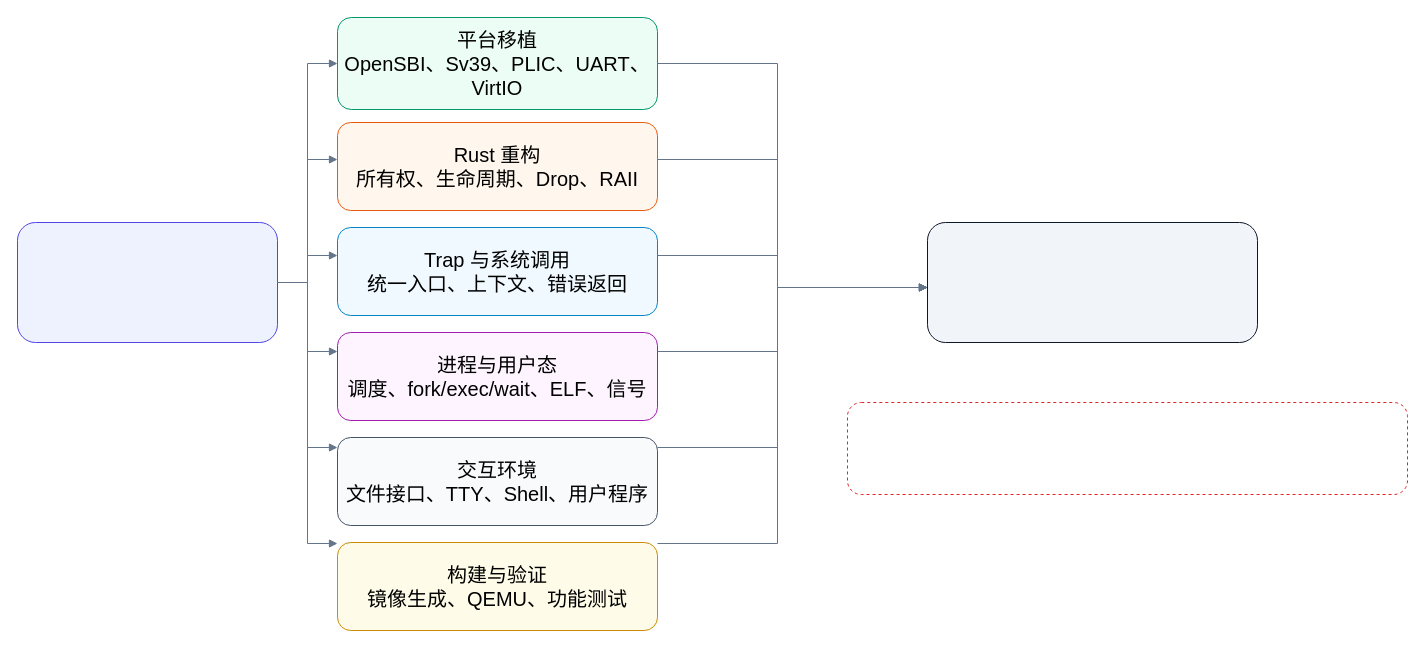
The diagram is 1425 pixels wide and 648 high, and some of its shapes have lost their labels. Each missing label, with the centre of its shape:
"main 分支 IA-32 / C++ / PC 设备" belongs at (x=147, y=282).
"当前系统 RISC-V / Rust / QEMU virt 可启动、可交互、可测试" belongs at (x=1092, y=282).
"本文重点展开 Trap 与系统调用、进程生命周期、用户程序与交互验证" belongs at (x=1127, y=448).
